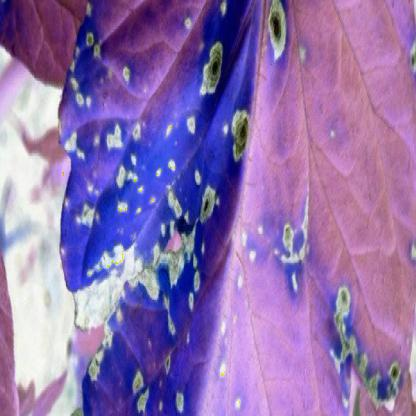tomato septoria leaf spot: (50, 3, 415, 414)
